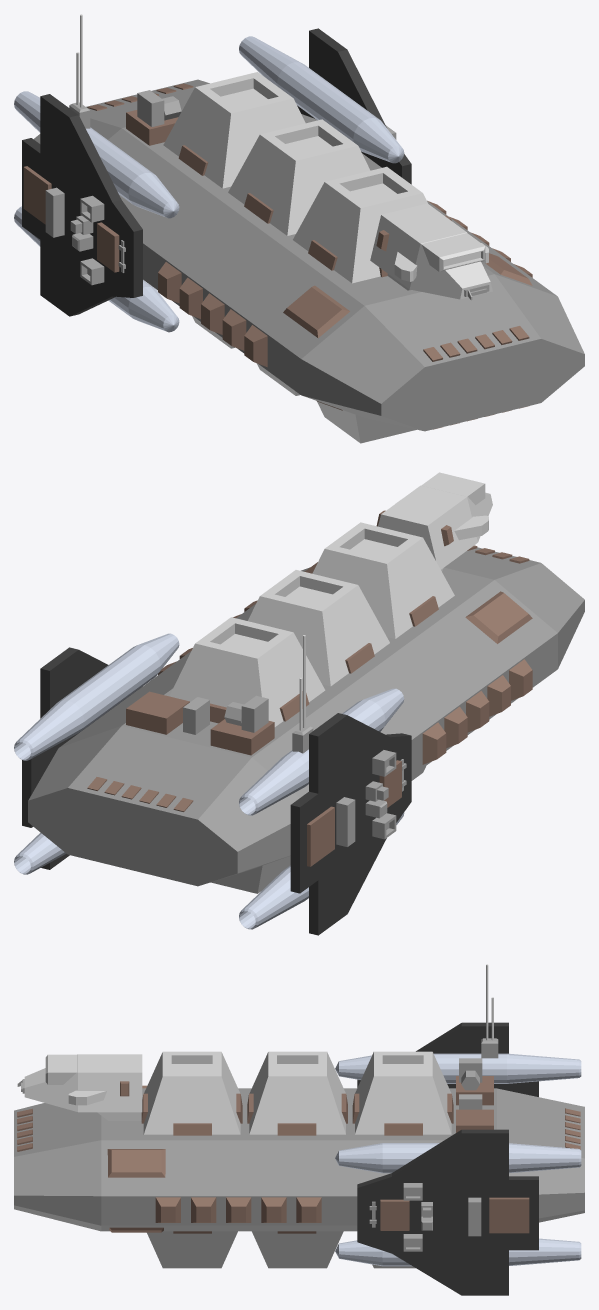
The model's file is miner-ship.fbx.
The picture shows the model from 3 angles, top to bottom: view 1: azimuth 30°, elevation 25°; view 2: azimuth 150°, elevation 25°; view 3: azimuth 270°, elevation 25°; orthographic projection. The views are drawn at different scales.
Visible parts, largest first — view 1: Cube, Cube.006, Cube.007, Vifs19, Cylinder, Cube.002, Vifs15.001, Vifs15, Cube.003, Cube.005; view 2: Cube, Cube.006, Cube.007, Vifs19, Cylinder, Cube.002, Vifs15.001, Vifs15, Cube.003, Cube.005; view 3: Cube, Cube.006, Cube.007, Vifs19, Cylinder, Cube.002, Vifs15.001, Vifs15, Vifs19.001, Cube.003, Cube.005.
Boxes of the visible parts, bbox=[...] form: Cube: bbox=[33, 79, 584, 431]; Cube.006: bbox=[163, 72, 427, 443]; Cube.007: bbox=[22, 28, 411, 316]; Vifs19: bbox=[23, 83, 532, 429]; Cylinder: bbox=[14, 36, 404, 332]; Cube.002: bbox=[370, 203, 492, 299]; Vifs15.001: bbox=[45, 125, 396, 285]; Vifs15: bbox=[69, 90, 489, 300]; Cube.003: bbox=[421, 233, 485, 271]; Cube.005: bbox=[394, 243, 488, 281]; Cube: bbox=[28, 547, 584, 886]; Cube.006: bbox=[169, 522, 454, 893]; Cube.007: bbox=[22, 647, 411, 935]; Vifs19: bbox=[87, 510, 532, 866]; Cylinder: bbox=[14, 633, 404, 929]; Cube.002: bbox=[378, 485, 492, 569]; Vifs15.001: bbox=[336, 750, 406, 846]; Vifs15: bbox=[183, 695, 313, 753]; Cube.003: bbox=[421, 472, 485, 505]; Cube.005: bbox=[395, 503, 488, 540]; Cube: bbox=[14, 1088, 584, 1231]; Cube.006: bbox=[143, 1051, 451, 1268]; Cube.007: bbox=[357, 1022, 538, 1295]; Vifs19: bbox=[17, 1076, 580, 1233]; Cylinder: bbox=[335, 1053, 581, 1266]; Cube.002: bbox=[24, 1054, 142, 1112]; Vifs15.001: bbox=[369, 1183, 481, 1251]; Vifs15: bbox=[17, 1038, 498, 1109]; Vifs19.001: bbox=[141, 1093, 453, 1123]; Cube.003: bbox=[45, 1054, 77, 1084]; Cube.005: bbox=[68, 1090, 106, 1105].
Size of the model in its own units: 126 by 116 by 243.
